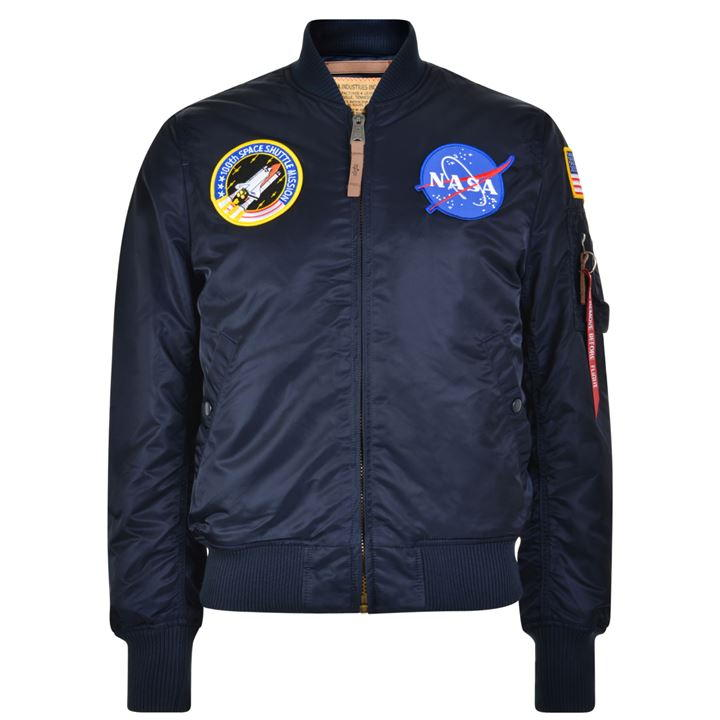NASA: (415, 140, 517, 221)
